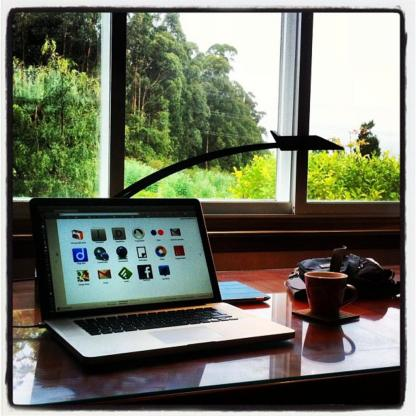board: (18, 200, 290, 372)
